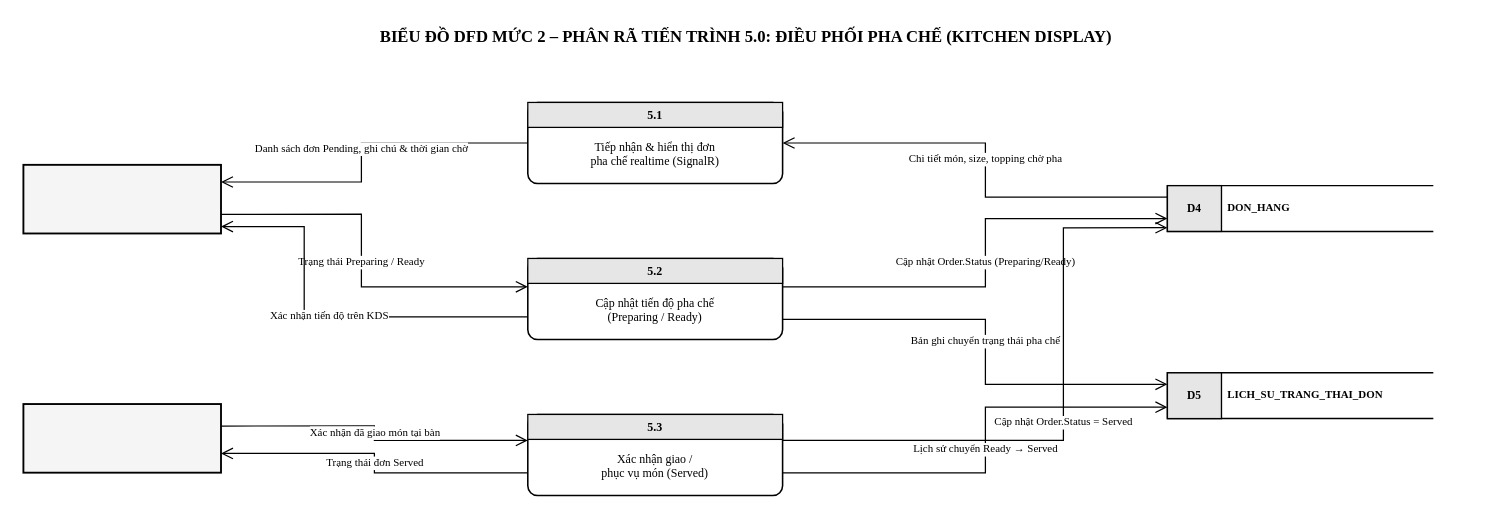
Some shapes in this 1491 by 514 pixel diagram are drawn without their labels. The shapes that lost their labels are listed below. From the top down, each one's centre as x and y in pixels, then its label:
At point (121, 198): "Nhân viên pha chế (BARISTA)".
At point (121, 438): "Thu ngân (CASHIER) / Phục vụ".
